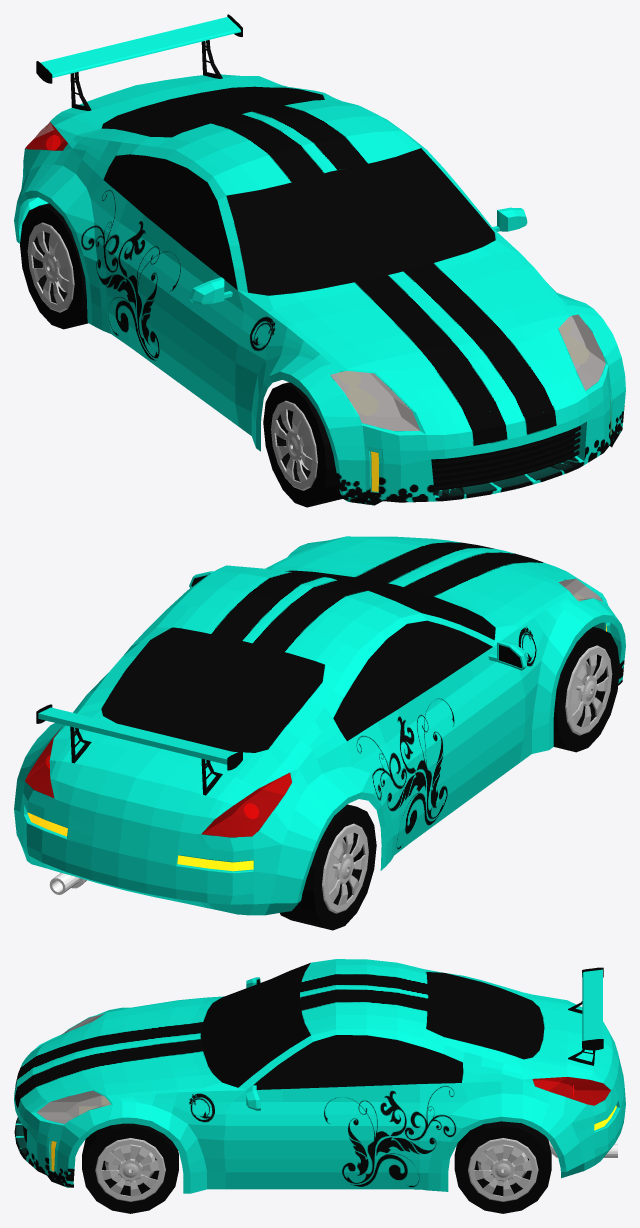
File: player.glb
3 views of the same model, one above another, from view 1: azimuth 30°, elevation 25°; view 2: azimuth 150°, elevation 25°; view 3: azimuth 270°, elevation 25° (orthographic). The views are drawn at different scales.
Parts seen in each view (by area): view 1: Plane.002, F.R.003, B.R.003; view 2: Plane.002, B.R.003, F.R.003; view 3: Plane.002, B.L, F.L.003.
Part boxes in pixels (bbox=[...]): Plane.002: bbox=[14, 14, 625, 505]; F.R.003: bbox=[263, 382, 342, 507]; B.R.003: bbox=[20, 203, 88, 329]; Plane.002: bbox=[14, 536, 625, 915]; B.R.003: bbox=[280, 804, 376, 930]; F.R.003: bbox=[553, 627, 619, 752]; Plane.002: bbox=[14, 959, 625, 1193]; B.L: bbox=[454, 1121, 551, 1213]; F.L.003: bbox=[82, 1123, 178, 1213].
Bounding box in the file's own units: 2.06 × 1.32 × 4.27.
Materials: 15 (1 with a texture image).
